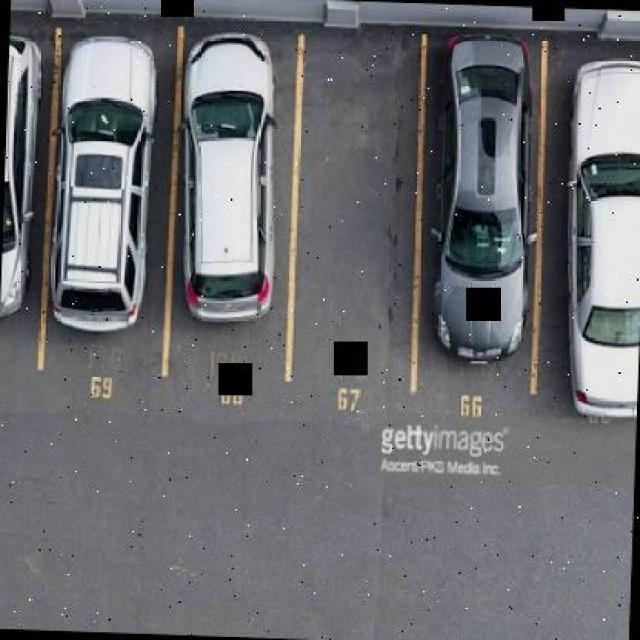car: (430, 16, 548, 375), (170, 19, 293, 348), (543, 32, 640, 428), (51, 40, 171, 348), (0, 33, 38, 352)
free: (297, 38, 420, 394)
